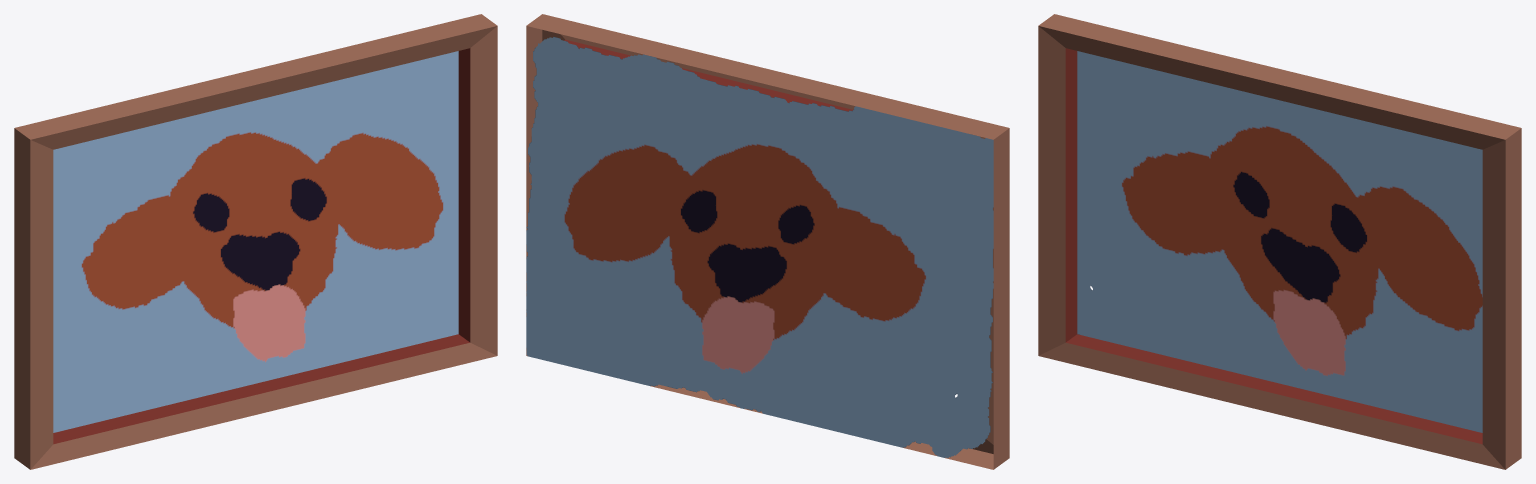
File: picture.dae
The picture shows the model from 3 angles, left to right: view 1: azimuth 30°, elevation 25°; view 2: azimuth 150°, elevation 25°; view 3: azimuth 330°, elevation 25°; orthographic projection.
Parts seen in each view (by area): view 1: picture; view 2: picture; view 3: picture.
Boxes of the visible parts, x1=… form: picture: x1=14, y1=14, x2=497, y2=469; picture: x1=526, y1=14, x2=1009, y2=469; picture: x1=1038, y1=14, x2=1521, y2=469.
Bounding box in the file's own units: 1.76 × 0.1056 × 1.19.
1 material, 1 textured.
